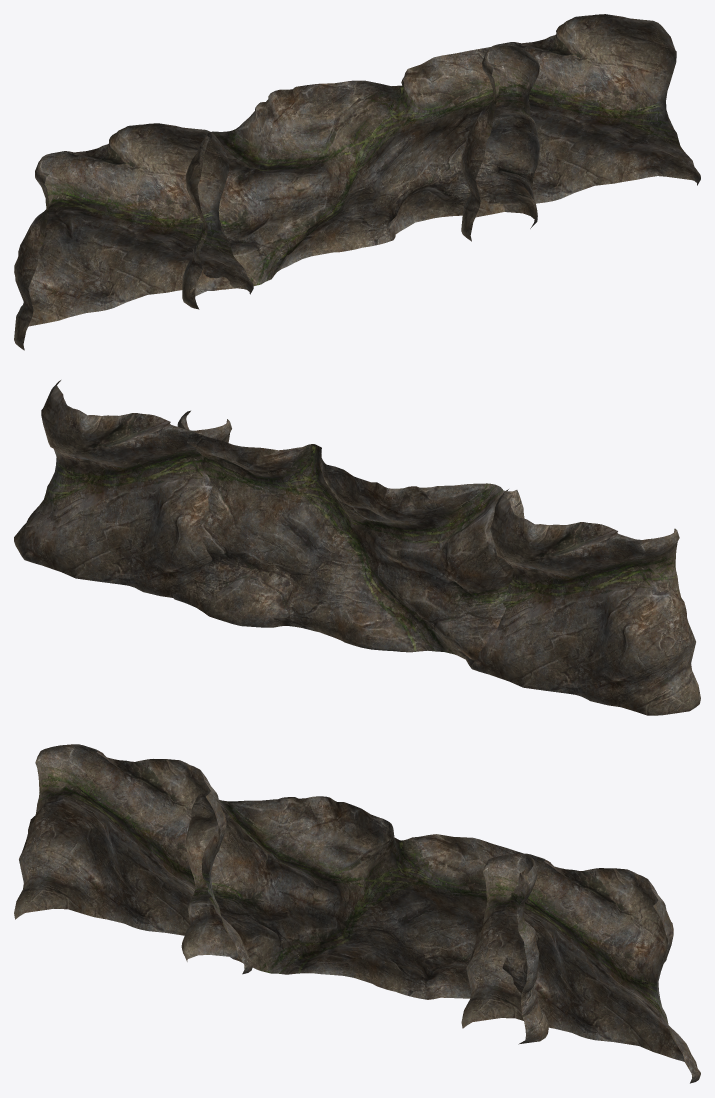
The model's file is cave_strip_veins_together.DAE.
3 views of the same model, one above another, from view 1: azimuth 30°, elevation 25°; view 2: azimuth 150°, elevation 25°; view 3: azimuth 330°, elevation 25° (orthographic).
Visible parts, largest first — view 1: cave_strip_veins_02, cave_strip_veins_003, cave_strip_veins_01; view 2: cave_strip_veins_02, cave_strip_veins_003, cave_strip_veins_01; view 3: cave_strip_veins_02, cave_strip_veins_01, cave_strip_veins_003.
Part boxes in pixels (bbox=[...]): cave_strip_veins_02: bbox=[182, 45, 539, 309]; cave_strip_veins_003: bbox=[14, 123, 253, 350]; cave_strip_veins_01: bbox=[461, 14, 700, 241]; cave_strip_veins_02: bbox=[172, 410, 524, 660]; cave_strip_veins_003: bbox=[465, 489, 700, 715]; cave_strip_veins_01: bbox=[14, 380, 231, 597]; cave_strip_veins_02: bbox=[181, 793, 548, 1044]; cave_strip_veins_01: bbox=[461, 853, 700, 1083]; cave_strip_veins_003: bbox=[14, 744, 253, 974].
Bounding box in the file's own units: 3028 × 730 × 282.
